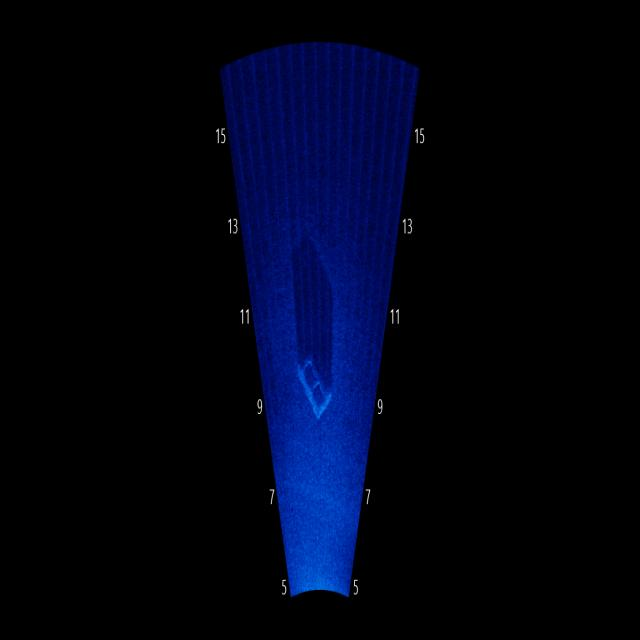square: (291, 342, 339, 432)
